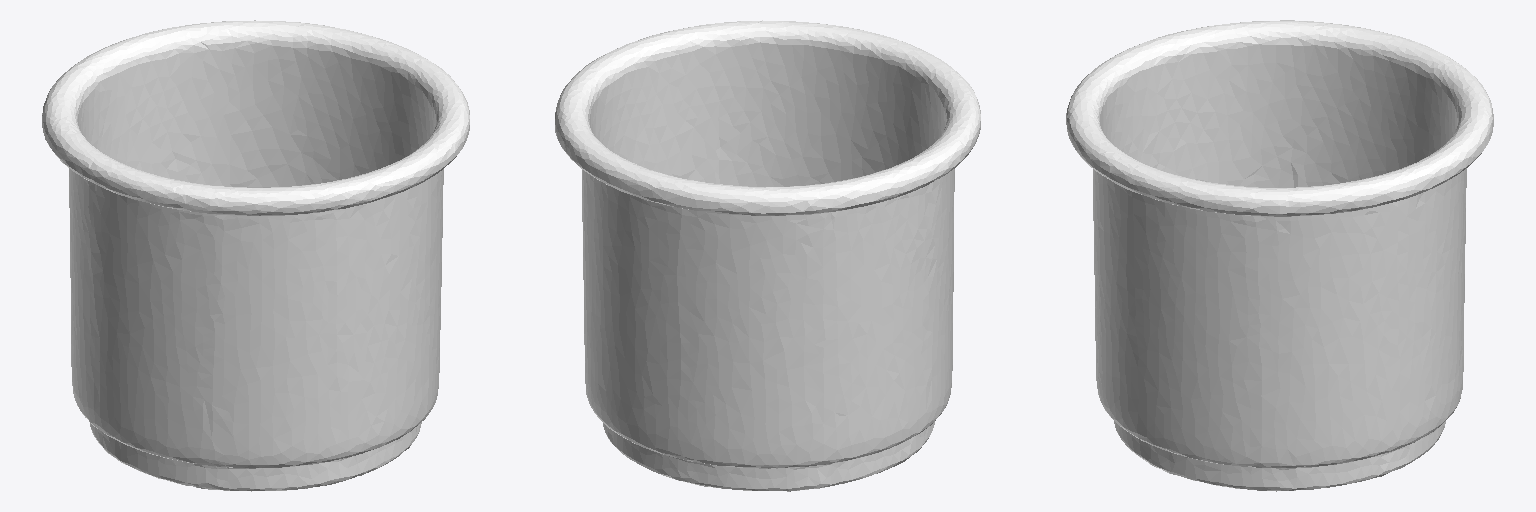
robot.urdf — 044_flat_screwdriver:
<robot name="044_flat_screwdriver">
	<link name="_name">
		<visual>
			<origin xyz="-0.23228351441964462 0.22705560718843418 -0.16179821688211804" rpy="0 0 0" />
			<geometry>
				<mesh filename="044_flat_screwdriver/google_16k/textured.obj" scale="10 10 10" />
			</geometry>
			<material name="texture">
				<color rgba="1.0 1.0 1.0 1.0" />
			</material>
		</visual>
		<collision>
			<geometry>
				<mesh filename="044_flat_screwdriver/google_16k/textured_vhacd.obj" scale="10 10 10" />
			</geometry>
		<origin xyz="-0.23228351441964462 0.22705560718843418 -0.16179821688211804" rpy="0 0 0" /></collision>
		<inertial>
			<mass value="1.0" />
			<inertia ixx="1.0" ixy="0.0" ixz="0.0" iyy="1.0" iyz="0.0" izz="1.0" />
		</inertial>
	</link>
</robot>

--- Facts derived from the render (not from the file) ---
3 views of the same robot in one strip: view 1: azimuth 30°, elevation 25°; view 2: azimuth 150°, elevation 25°; view 3: azimuth 270°, elevation 25° (orthographic).
Model 044_flat_screwdriver with 1 links and 0 joints (none), rooted at _name, posed all joints at 0.
Visible links, largest first — view 1: _name; view 2: _name; view 3: _name.
Link boxes in pixels (bbox=[...]): _name: bbox=[42, 20, 469, 491]; _name: bbox=[555, 20, 980, 491]; _name: bbox=[1066, 20, 1493, 491].
Bounding box of the posed robot: 0.915 × 0.9162 × 0.7506 m (x, y, z).
1 mesh visuals loaded from 1 distinct referenced files (1 OBJ).